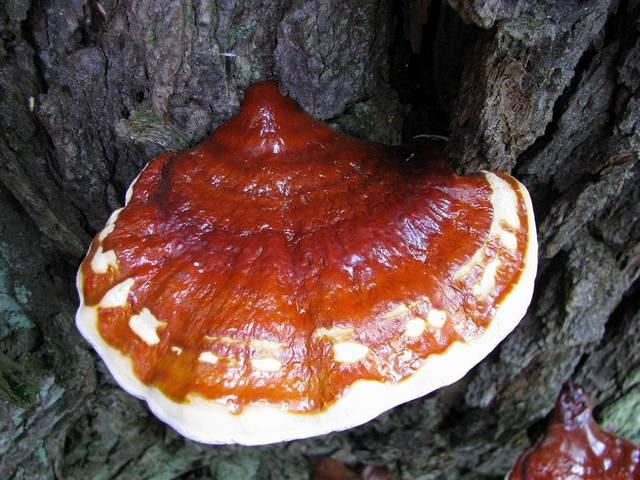Non-edible Mushroom: (73, 78, 540, 447)
